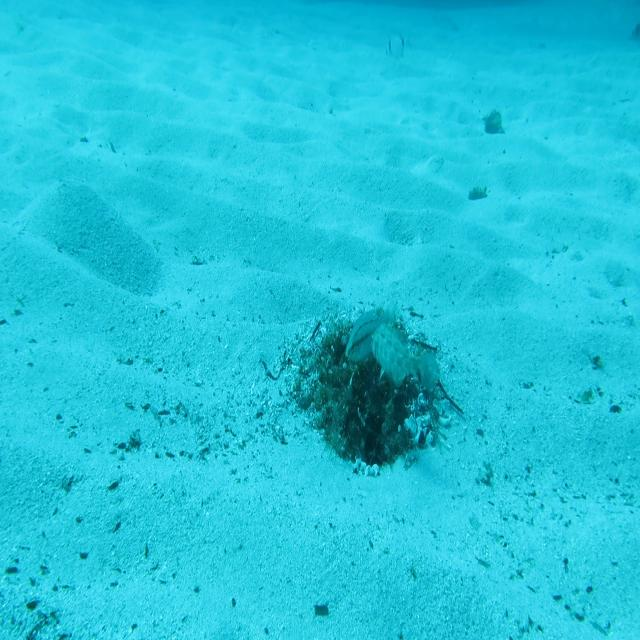CHASE_FLEE: (369, 321, 444, 394)
core_nest: (341, 338, 393, 377)
female: (343, 297, 397, 368)
nest: (280, 297, 456, 483)
other_fish: (381, 27, 408, 64), (626, 17, 640, 50)
vegetation: (482, 109, 506, 137), (469, 182, 487, 204), (312, 602, 331, 620)
